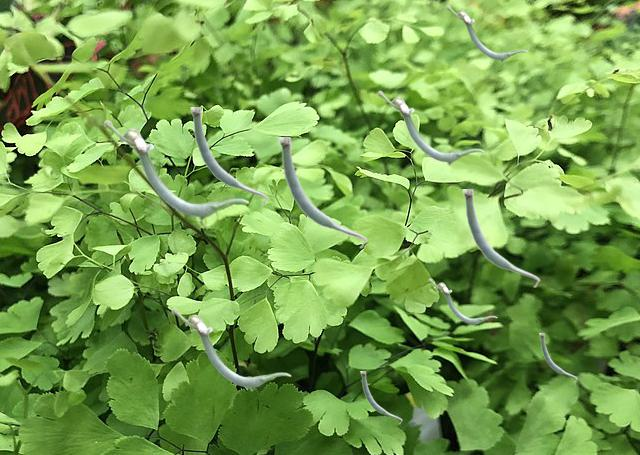french_bean: (103, 119, 248, 220), (171, 307, 290, 390), (278, 137, 366, 248), (377, 90, 483, 164), (462, 189, 539, 287), (190, 107, 267, 205), (446, 5, 527, 61), (428, 278, 496, 325), (360, 371, 401, 423), (539, 333, 576, 381)
